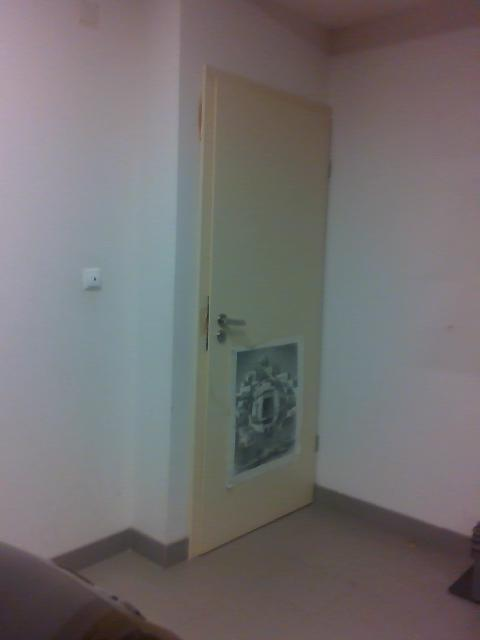closed_door: (186, 62, 333, 561)
